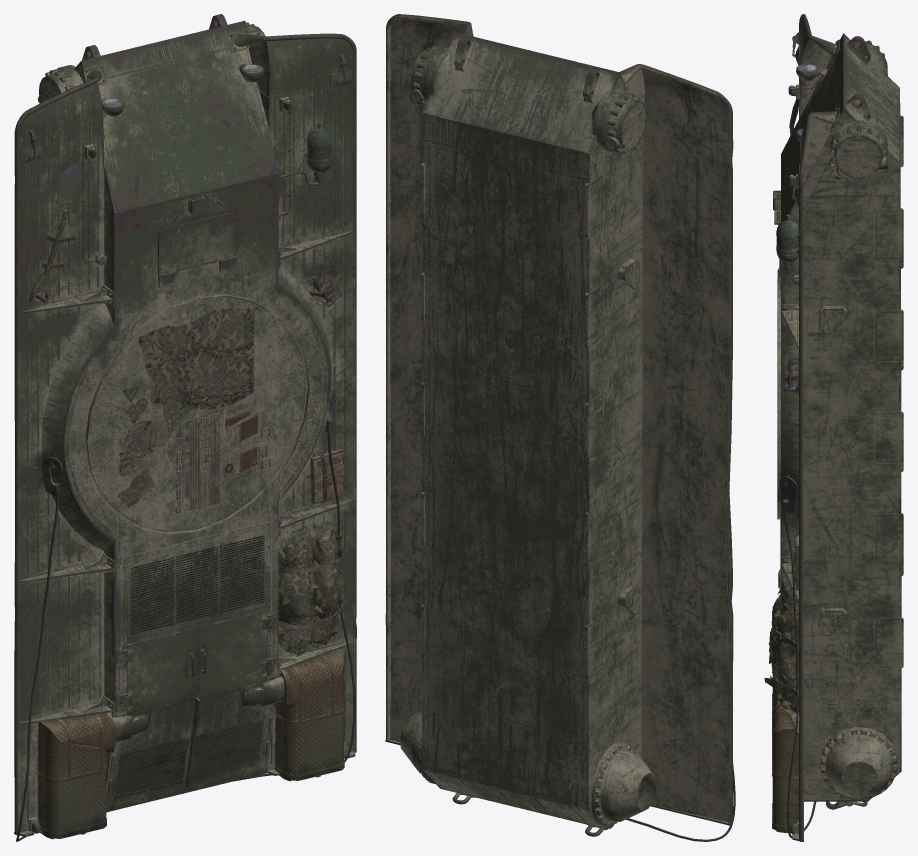
Rendered from Hull.glb.
3 renders of one model, left to right at view 1: azimuth 30°, elevation 25°; view 2: azimuth 150°, elevation 25°; view 3: azimuth 270°, elevation 25°, orthographic. The views are drawn at different scales.
Parts seen in each view (by area): view 1: set_0_group_0; view 2: set_0_group_0; view 3: set_0_group_0.
Part boxes in pixels (x1=…): set_0_group_0: x1=14, y1=14, x2=356, y2=841; set_0_group_0: x1=385, y1=14, x2=735, y2=841; set_0_group_0: x1=764, y1=14, x2=903, y2=841.
Size of the model in its own units: 2.78 by 5.87 by 1.04.
Materials: 1 (1 with a texture image).
